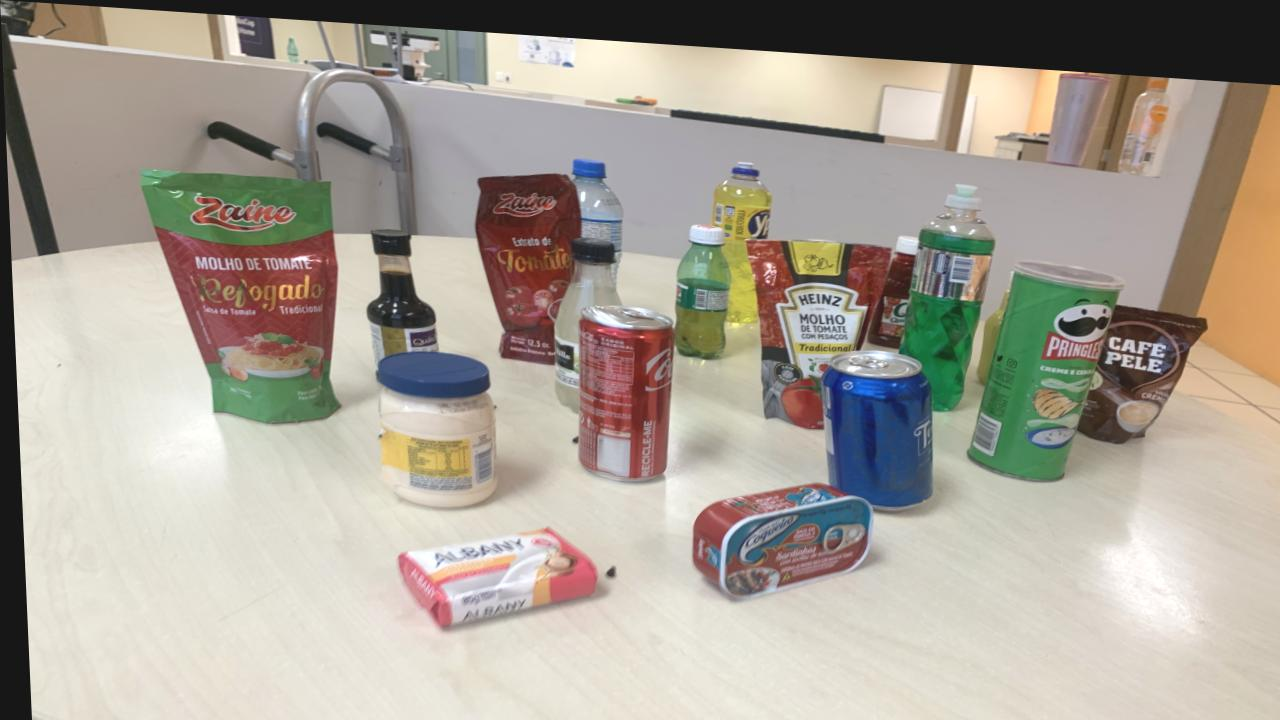Coffee-Pantry_Items: (1072, 289, 1204, 427)
Coke-Drinks: (574, 297, 671, 473)
Detergent-Cleanup_Items: (897, 172, 994, 398), (711, 151, 770, 314)
English_Sauce-Pantry_Items: (365, 224, 436, 356)
Guarana-Drinks: (672, 216, 728, 350)
Ketchup-Pantry_Items: (865, 223, 917, 335)
Mayonnaise-Pantry_Items: (374, 344, 492, 501)
Mustard-Pantry_Items: (973, 275, 1008, 370)
Pringles-Snacks: (964, 246, 1122, 467)
Soap-Cleanup_Items: (394, 520, 594, 620)
Soda-Drinks: (551, 229, 619, 404)
Tomato_Sauce-Pantry_Items: (141, 168, 336, 419), (744, 229, 889, 417), (474, 165, 579, 356)
Tonic-Drinks: (819, 338, 930, 498)
Tuna_Can-Pantry_Items: (688, 473, 869, 589)
Water_Bottle-Drinks: (572, 152, 622, 275)
